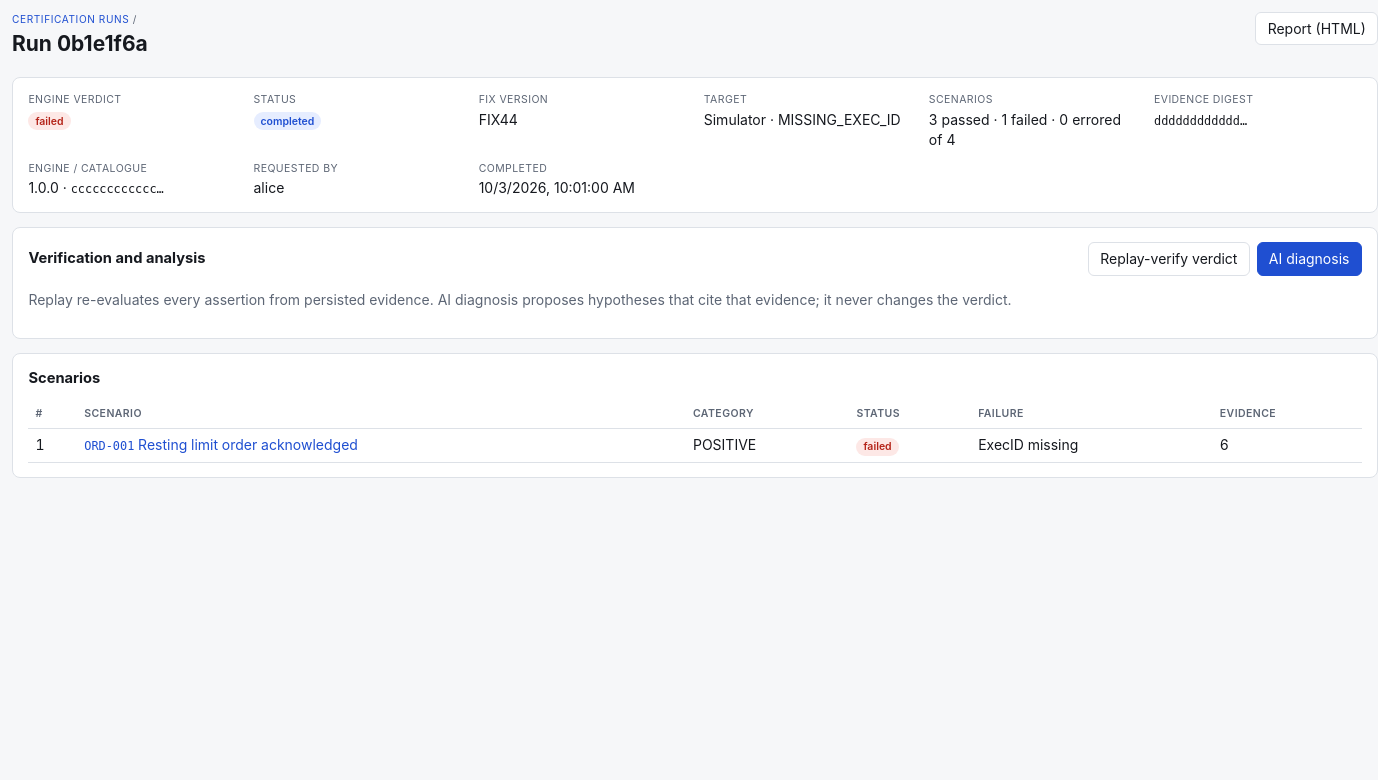
Test case: run detail › shows the engine verdict and AI hypotheses as hypotheses that cite evidence
This screenshot has width=1378, height=780.
Expected: the text "FAILED" below "Engine verdict" is shown, [35,115,64,128]
Expected: the text "ExecID missing" is shown, [971,428,1213,462]
What coordinates should you click on to do the following:
click the button "AI diagnosis"
I would click on:
 (1309, 259)
Its box is [1257,242,1362,276].
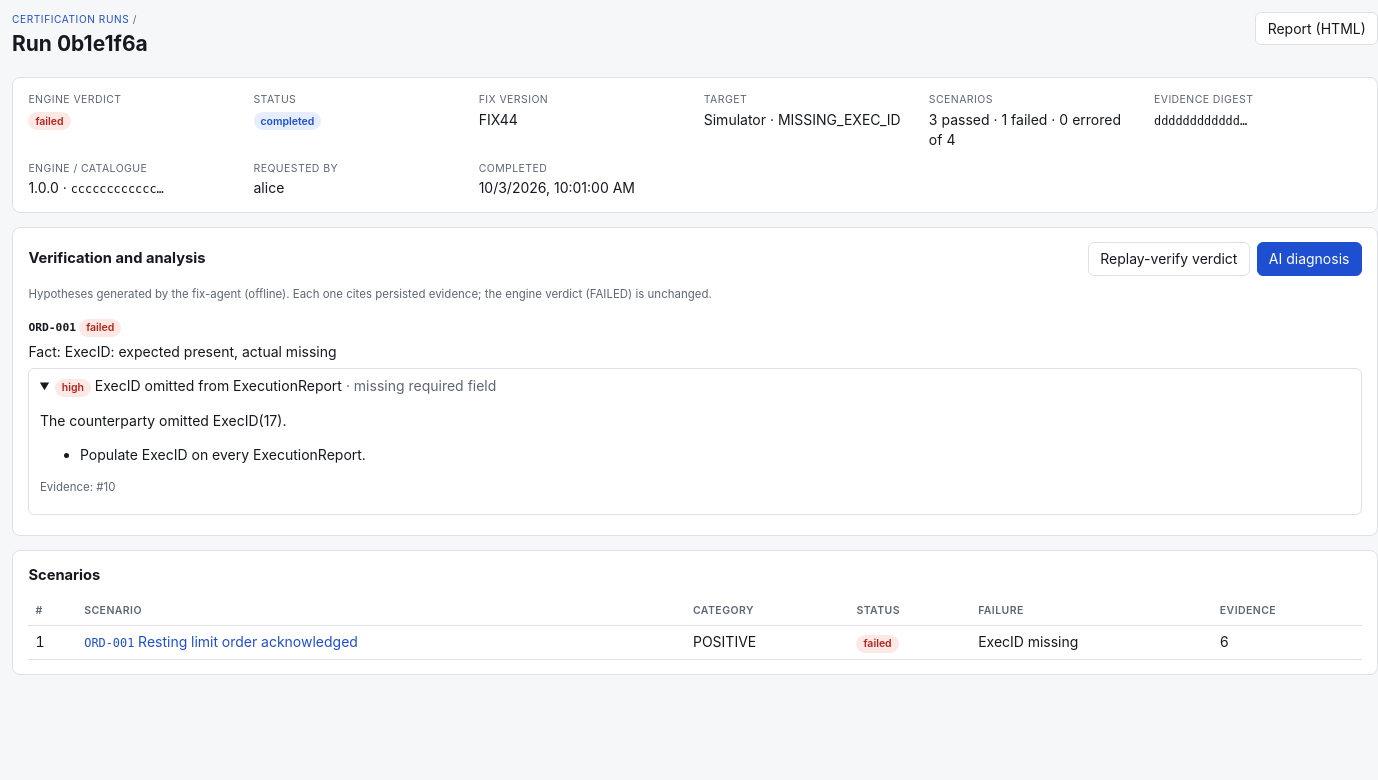
Expected: the heading "ExecID omitted from ExecutionReport" is shown, [55,377,496,397]
Expected: the text "the engine verdict (FAILED) is unchanged" is shown, [28,287,712,301]
Expected: the text "Evidence: #10" is shown, [40,480,115,494]
